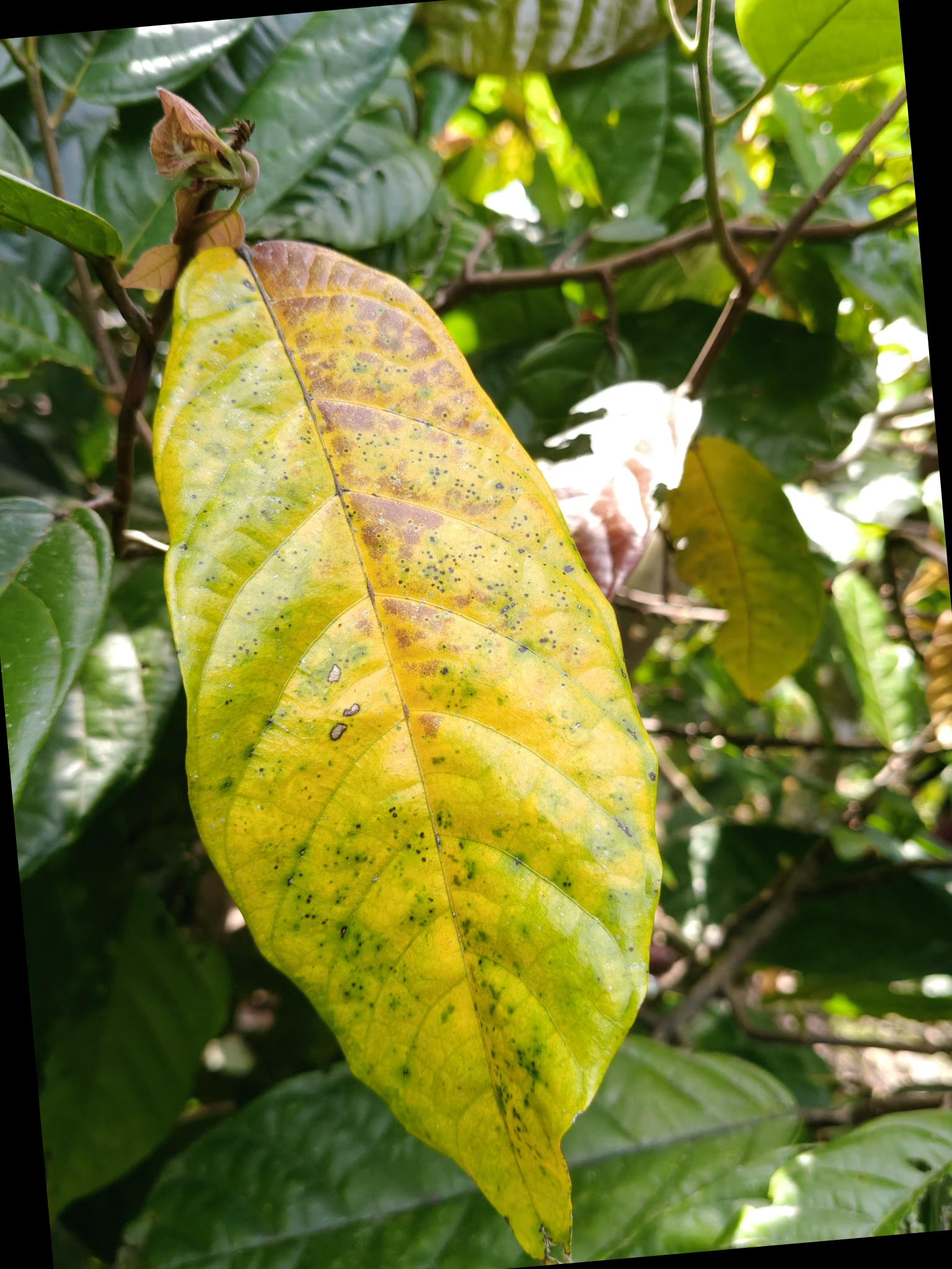Fosforo: (174, 229, 642, 1255)
